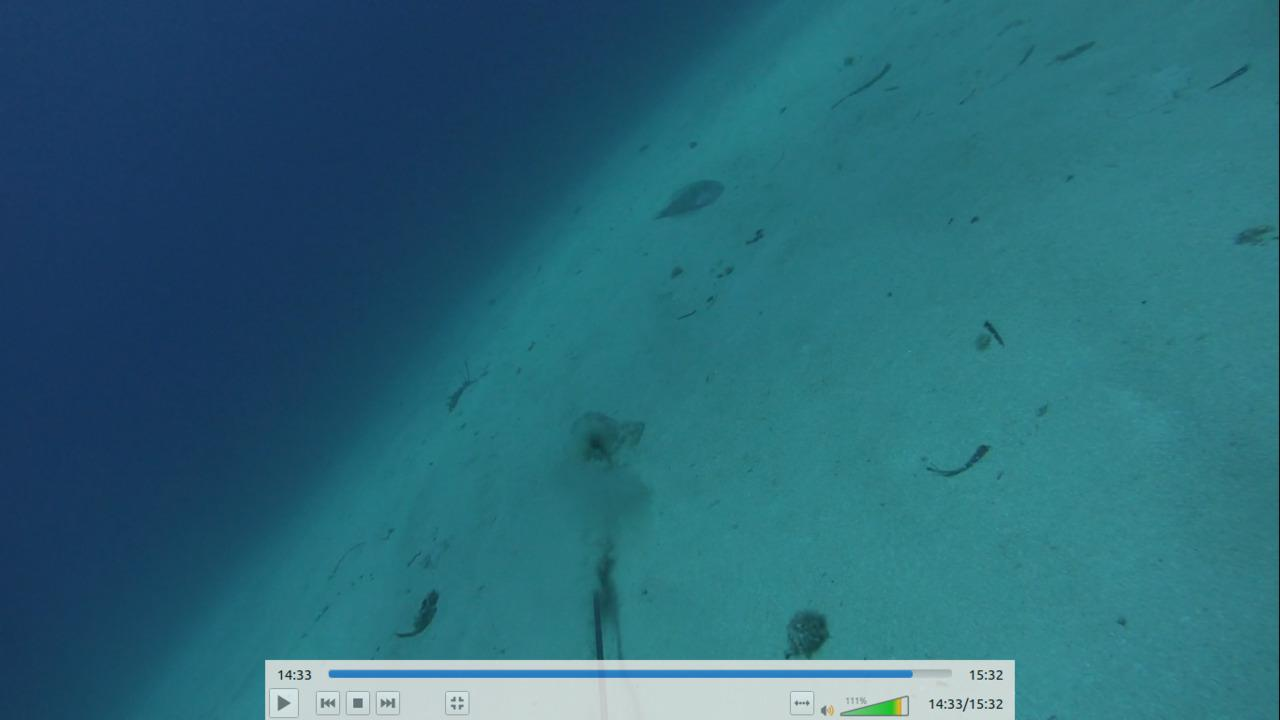raor: (641, 173, 730, 219)
